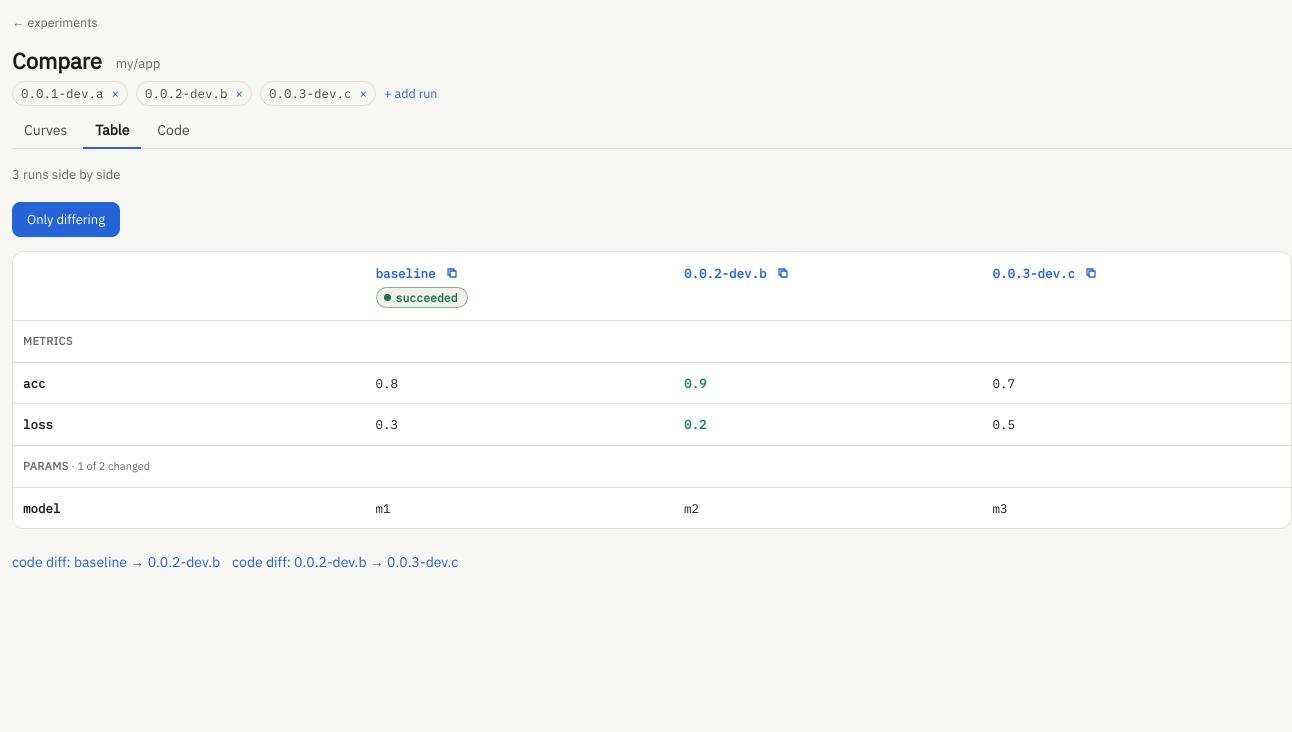
CompareRuns › removes a run from the selection
Check: the link "baseline" is shown, box 376,264 -> 436,283
Click the button named "remove 0.0.2-dev.b": (239,93) 232,87 -> 247,99
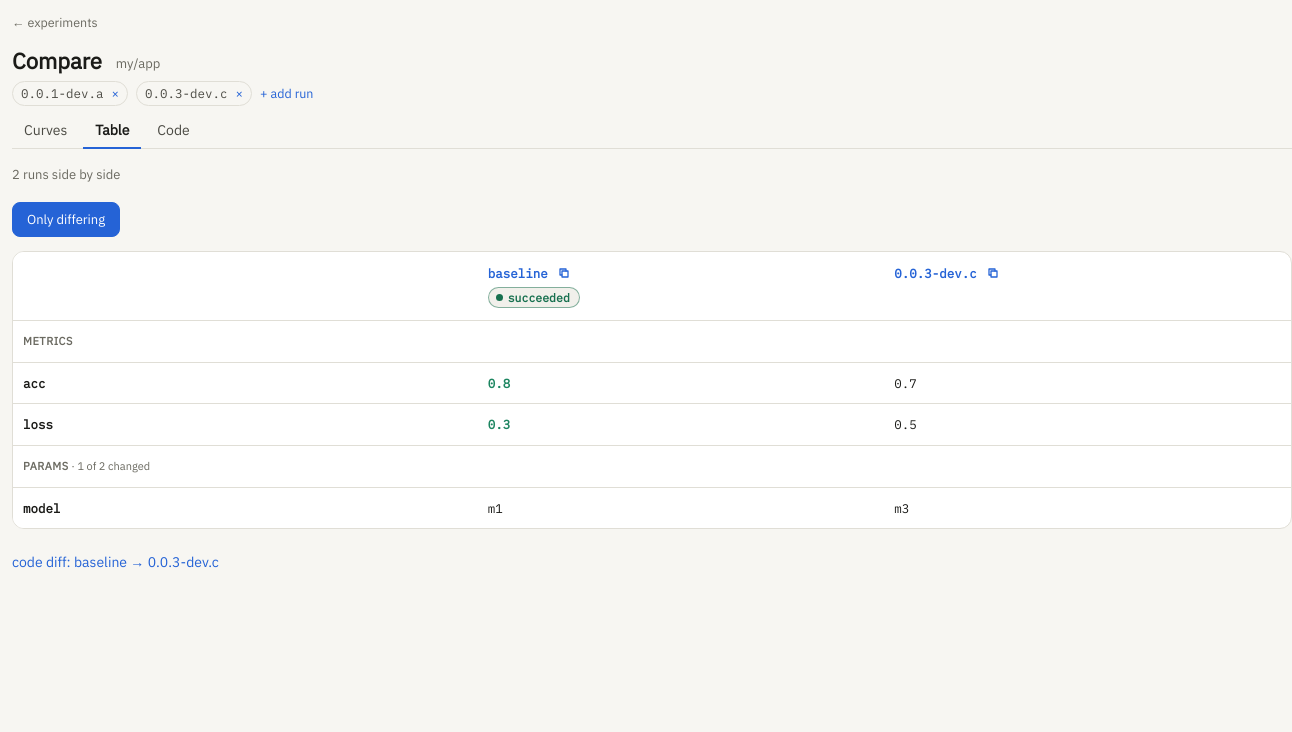
Check: the text "0.0.2-dev.b" is gone
